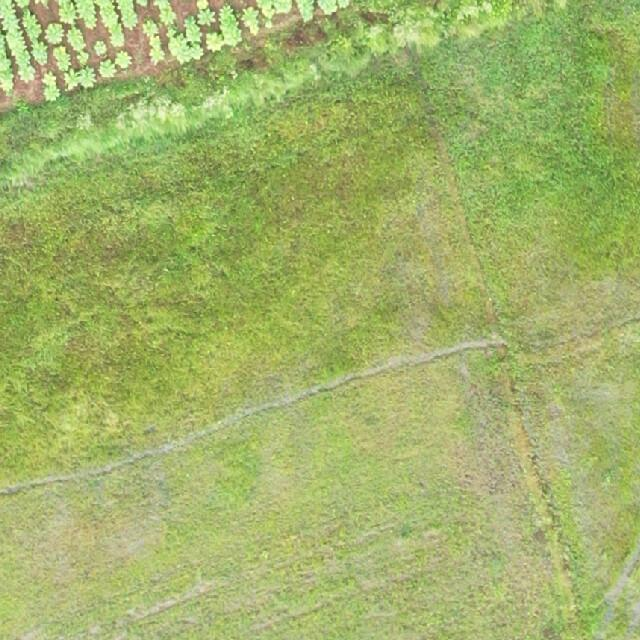tobacco: (0, 0, 586, 198), (0, 0, 365, 112)
